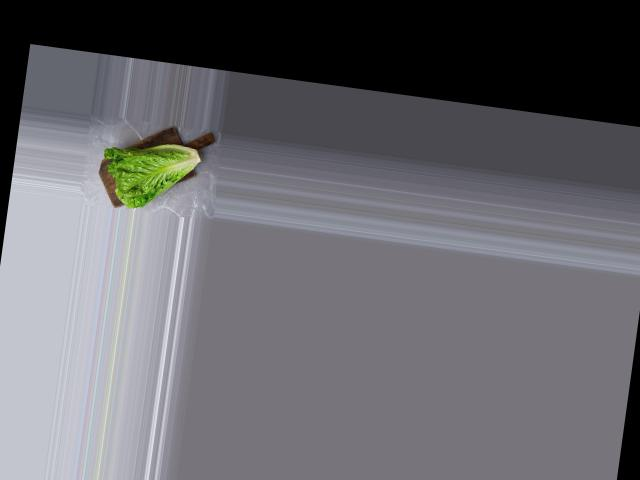lettuce: (97, 124, 207, 216)
